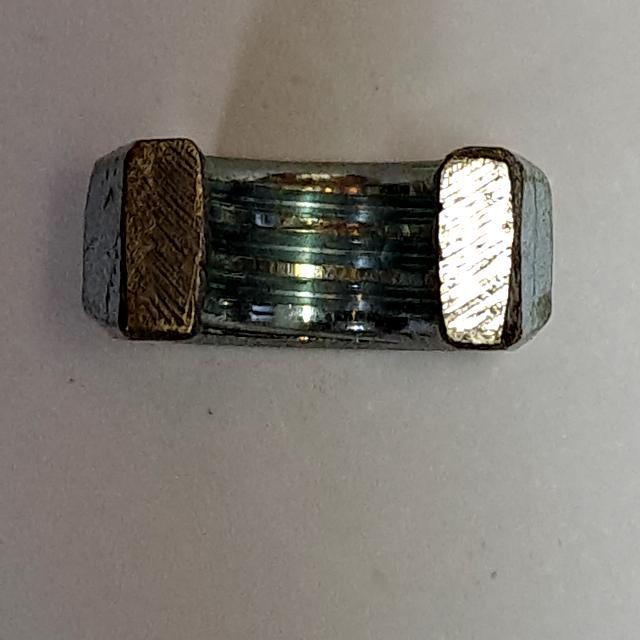Side-Fracture: (64, 119, 574, 377)
